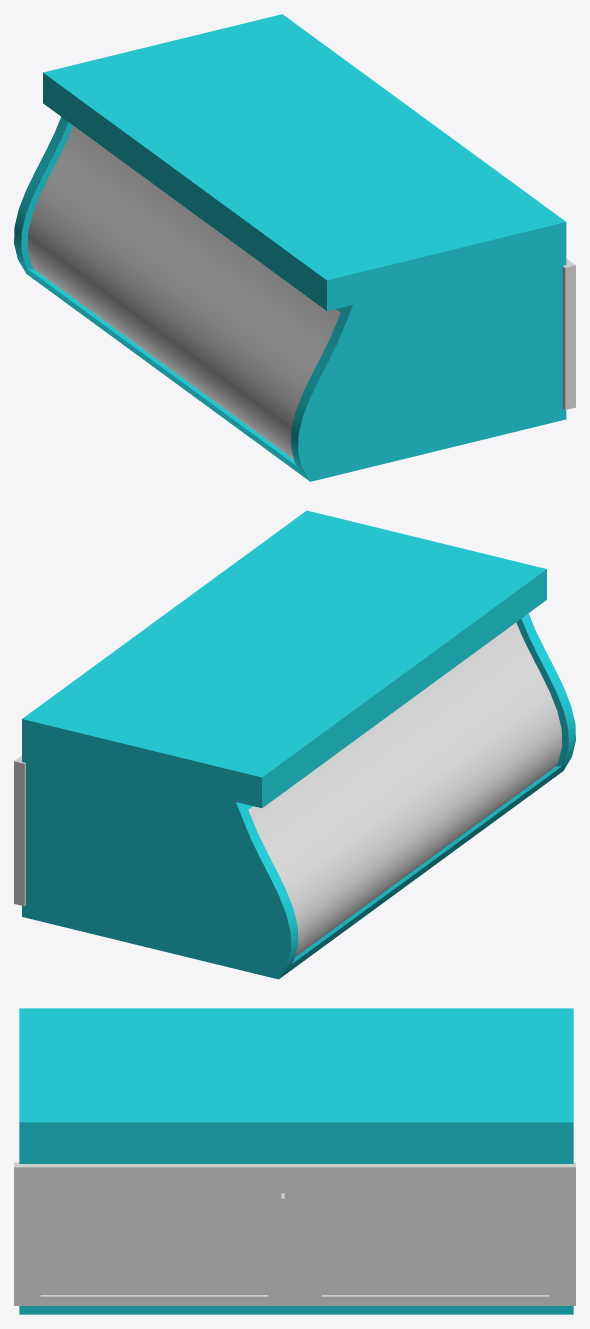
The model's file is SweetFreezer.fbx.
The picture shows the model from 3 angles, top to bottom: view 1: azimuth 30°, elevation 25°; view 2: azimuth 150°, elevation 25°; view 3: azimuth 270°, elevation 25°; orthographic projection. The views are drawn at different scales.
Visible parts, largest first — view 1: Cube.088, Cube.089; view 2: Cube.088, Cube.090; view 3: Cube.088, Cube.090, Cube.089.
Boxes of the visible parts, x1,y1,x2,y2 form: Cube.088: [14, 14, 566, 481]; Cube.089: [562, 258, 575, 409]; Cube.088: [22, 510, 575, 979]; Cube.090: [14, 755, 25, 906]; Cube.088: [19, 1008, 573, 1314]; Cube.090: [295, 1162, 575, 1305]; Cube.089: [14, 1162, 294, 1305].
Size of the model in its own units: 245 by 161 by 427.
